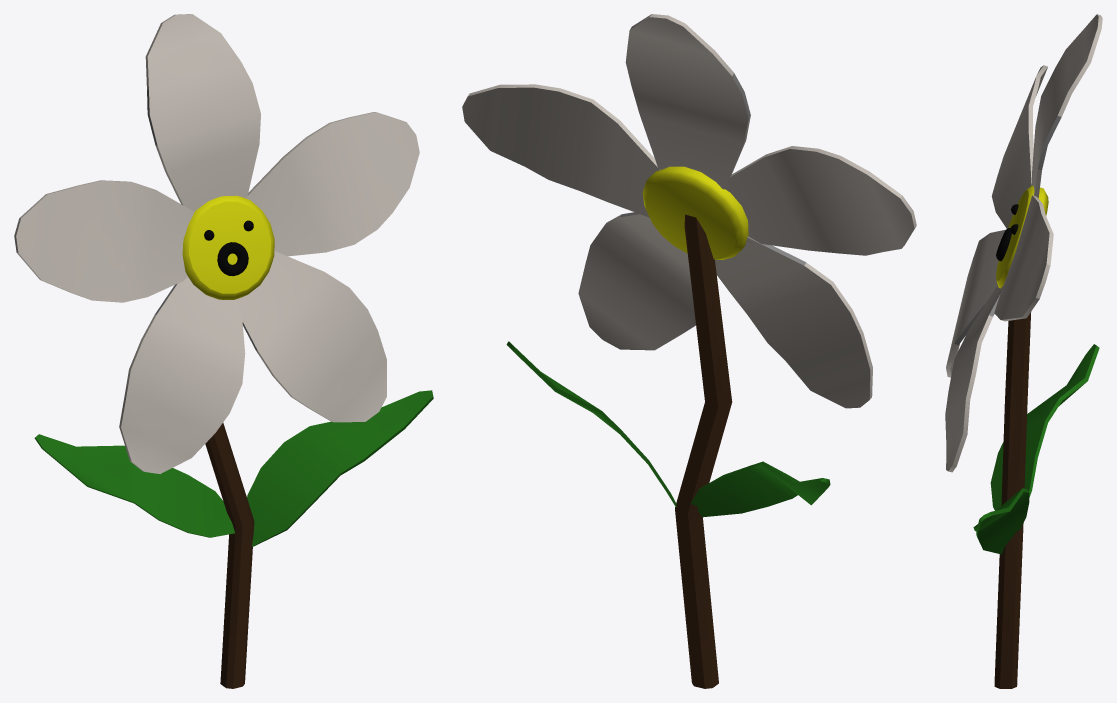
File: adult plant.obj
3 renders of one model, left to right at view 1: azimuth 30°, elevation 25°; view 2: azimuth 150°, elevation 25°; view 3: azimuth 270°, elevation 25°, orthographic. The views are drawn at different scales.
Parts seen in each view (by area): view 1: polySurface1, pCube10 polySurface6, polySurface3 pCube10, pCube10 polySurface9, pCube10 polySurface11, pCube10 polySurface14, pCube10 polySurface16, pCube11, pTorus1; view 2: pCube10 polySurface9, pCube10 polySurface14, polySurface3 pCube10, pCube10 polySurface6, pCube11, pCube10 polySurface11, pCube10 polySurface16, polySurface1; view 3: pCube11, polySurface1, pCube10 polySurface14, polySurface3 pCube10, pCube10 polySurface11, pCube10 polySurface9, pCube10 polySurface6, pCube10 polySurface16, pCube10 polySurface4, pTorus1.
Part boxes in pixels (x1,y1,x2,y2): polySurface1: (34, 390, 433, 546); pCube10 polySurface6: (119, 277, 245, 473); polySurface3 pCube10: (145, 14, 260, 212); pCube10 polySurface9: (14, 180, 193, 302); pCube10 polySurface11: (236, 251, 386, 422); pCube10 polySurface14: (246, 112, 419, 256); pCube10 polySurface16: (182, 195, 274, 299); pCube11: (205, 422, 254, 688); pTorus1: (217, 242, 248, 276); pCube10 polySurface9: (725, 146, 916, 255); pCube10 polySurface14: (462, 84, 660, 217); polySurface3 pCube10: (625, 14, 750, 189); pCube10 polySurface6: (715, 237, 872, 408); pCube11: (675, 214, 732, 688); pCube10 polySurface11: (578, 214, 695, 350); pCube10 polySurface16: (642, 166, 748, 259); polySurface1: (506, 341, 830, 517); pCube11: (994, 312, 1030, 688); polySurface1: (973, 344, 1099, 554); pCube10 polySurface14: (994, 195, 1053, 321); polySurface3 pCube10: (1032, 14, 1102, 198); pCube10 polySurface11: (945, 285, 1003, 472); pCube10 polySurface9: (991, 65, 1047, 228); pCube10 polySurface6: (946, 229, 1005, 377); pCube10 polySurface16: (996, 185, 1048, 288); pCube10 polySurface4: (1038, 115, 1061, 169); pTorus1: (996, 228, 1011, 261).
Size of the model in its own units: 4.89 by 7.4 by 1.6.
